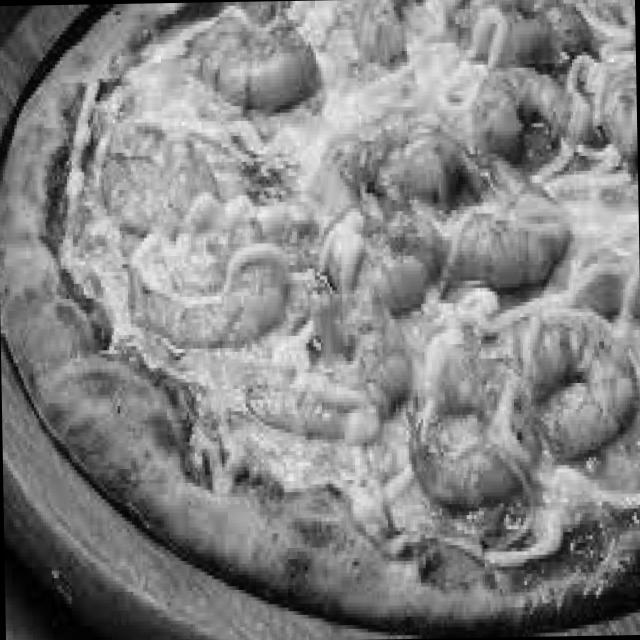camarao: (428, 152, 564, 295), (526, 308, 638, 462), (136, 245, 292, 350), (186, 1, 320, 118), (416, 394, 532, 508), (464, 52, 576, 158)
pizza: (0, 0, 639, 639)
